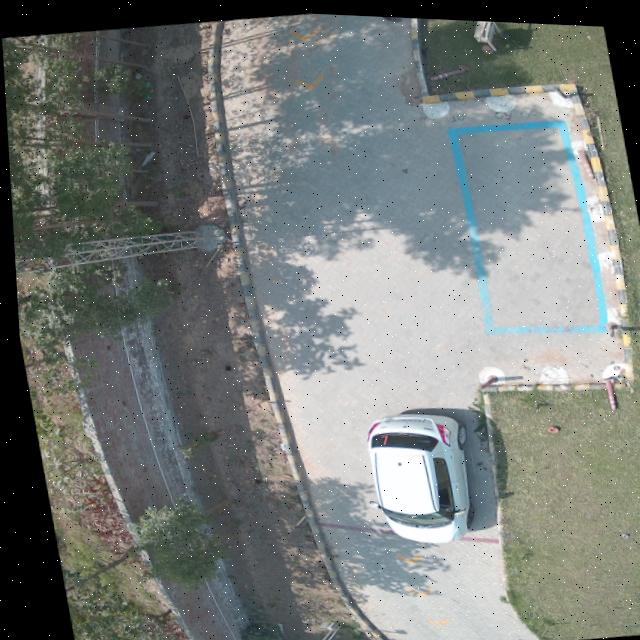car: (361, 408, 465, 539)
